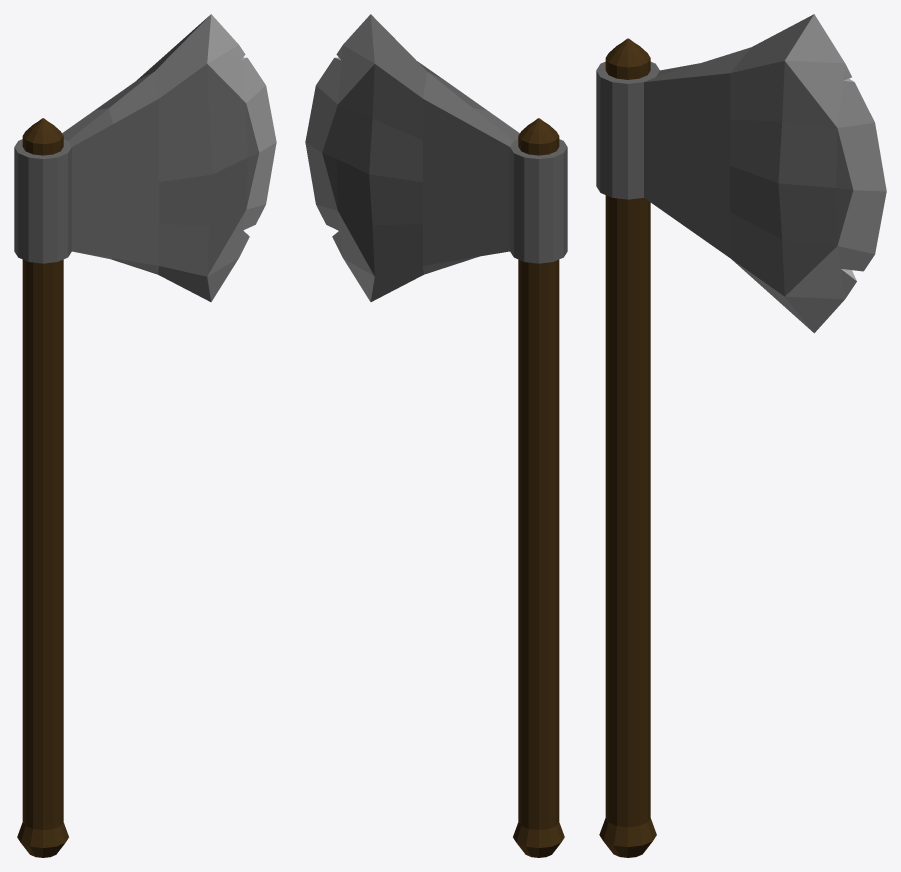
Rendered from LowPoly_Axe01.fbx.
3 renders of one model, left to right at view 1: azimuth 30°, elevation 25°; view 2: azimuth 150°, elevation 25°; view 3: azimuth 330°, elevation 25°, orthographic. The views are drawn at different scales.
Visible parts, largest first — view 1: Steel, Stick; view 2: Steel, Stick; view 3: Steel, Stick.
Boxes of the visible parts, x1,y1,x2,y2 form: Steel: (14,14,276,301); Stick: (17,118,68,857); Steel: (305,14,567,301); Stick: (513,118,564,857); Steel: (596,14,886,333); Stick: (599,38,656,857).
Size of the model in its own units: 36.67 by 108 by 8.36.
